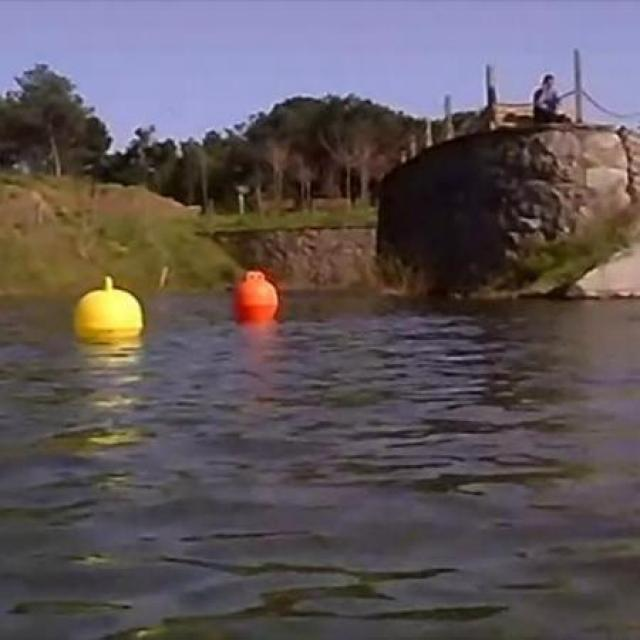buoy: (75, 272, 143, 344), (236, 272, 279, 325)
